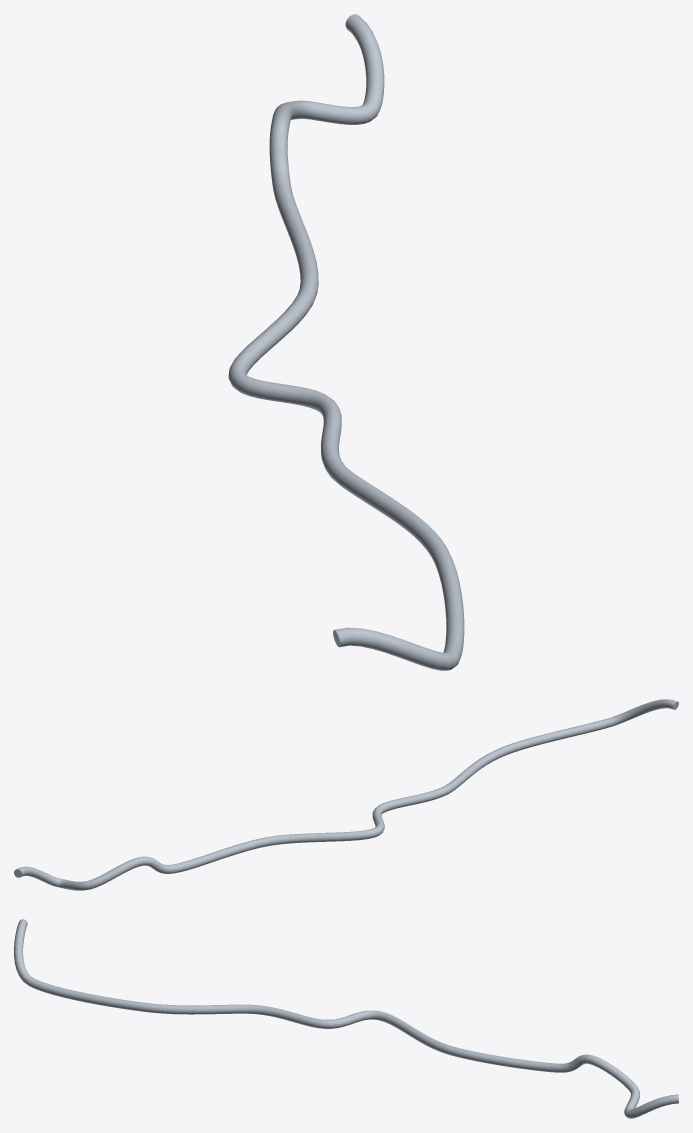
Rendered from SM_Cable_2_Splines_6.fbx.
The picture shows the model from 3 angles, top to bottom: view 1: azimuth 30°, elevation 25°; view 2: azimuth 150°, elevation 25°; view 3: azimuth 270°, elevation 25°; orthographic projection. The views are drawn at different scales.
Visible parts, largest first — view 1: SM_Cable_2_Splines_6; view 2: SM_Cable_2_Splines_6; view 3: SM_Cable_2_Splines_6.
Part boxes in pixels (box(x1,y1,x2,y2)): SM_Cable_2_Splines_6: box(228, 14, 464, 670); SM_Cable_2_Splines_6: box(14, 699, 678, 890); SM_Cable_2_Splines_6: box(14, 919, 678, 1118).
Size of the model in its own units: 241 by 407 by 28.9.
